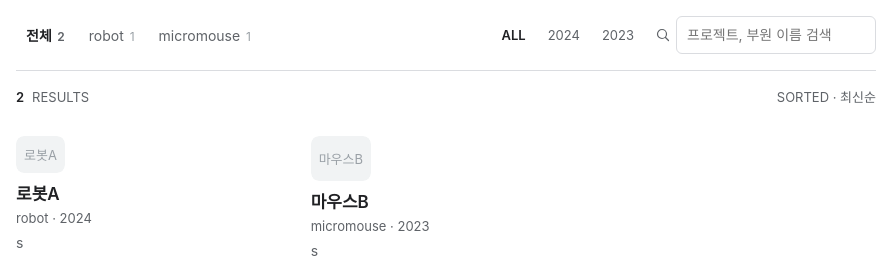
Scenario: App › 카테고리 필터로 목록을 좁힌다
Check: the heading "로봇A" is shown, box [16,184,60,204]
Click the button "micromouse 1" at {"x": 205, "y": 35}, box [149,19,261,51]
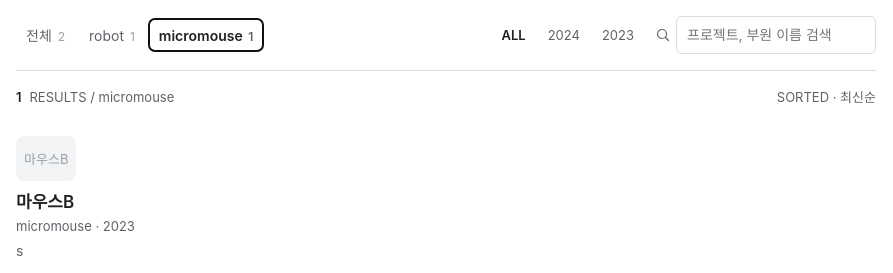
Check: the heading "마우스B" is shown, box [16,192,74,212]
Check: the button "로봇A" is gone
